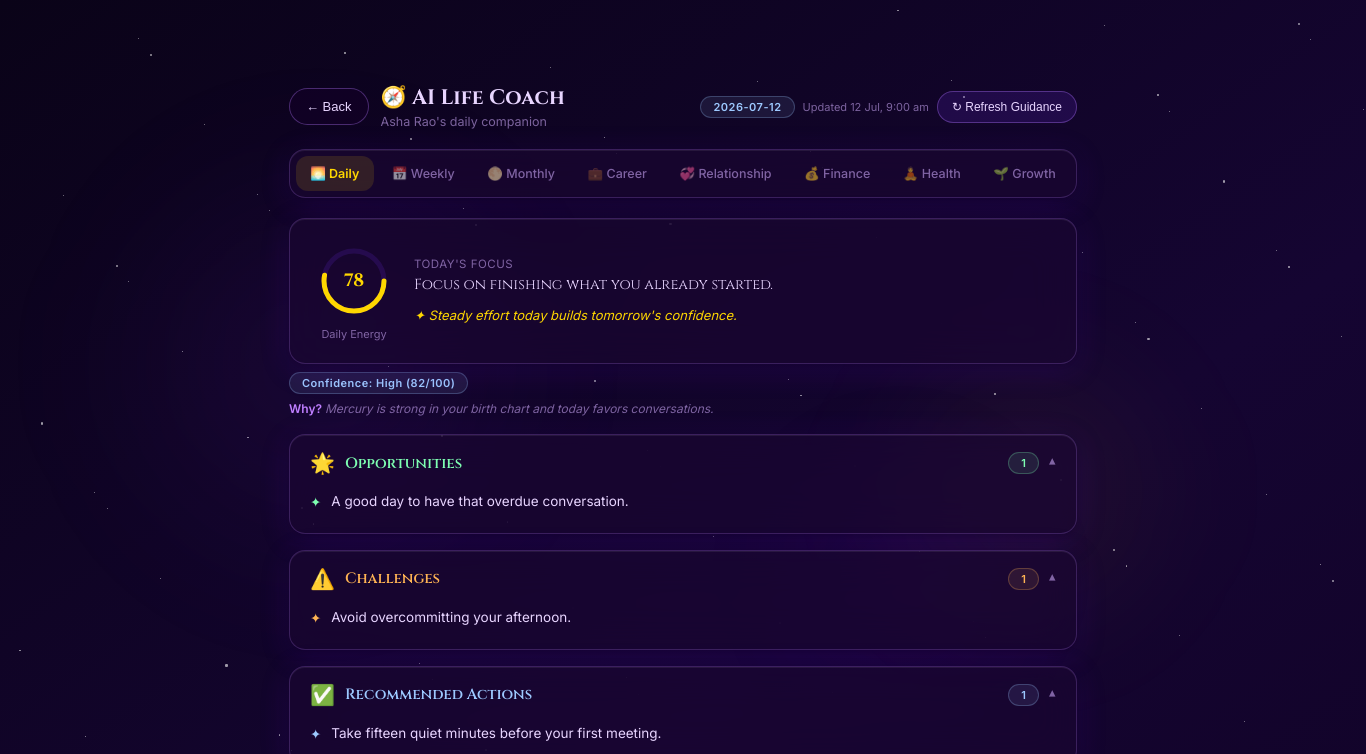
Test: AILifeCoachPage › switches to the Monthly section and shows the AI monthly narrative
Expected: the text "Focus on finishing what you already started." is shown, [414,275,773,294]
Click the button "🌕 Monthly": (521, 174) [473,156,569,191]
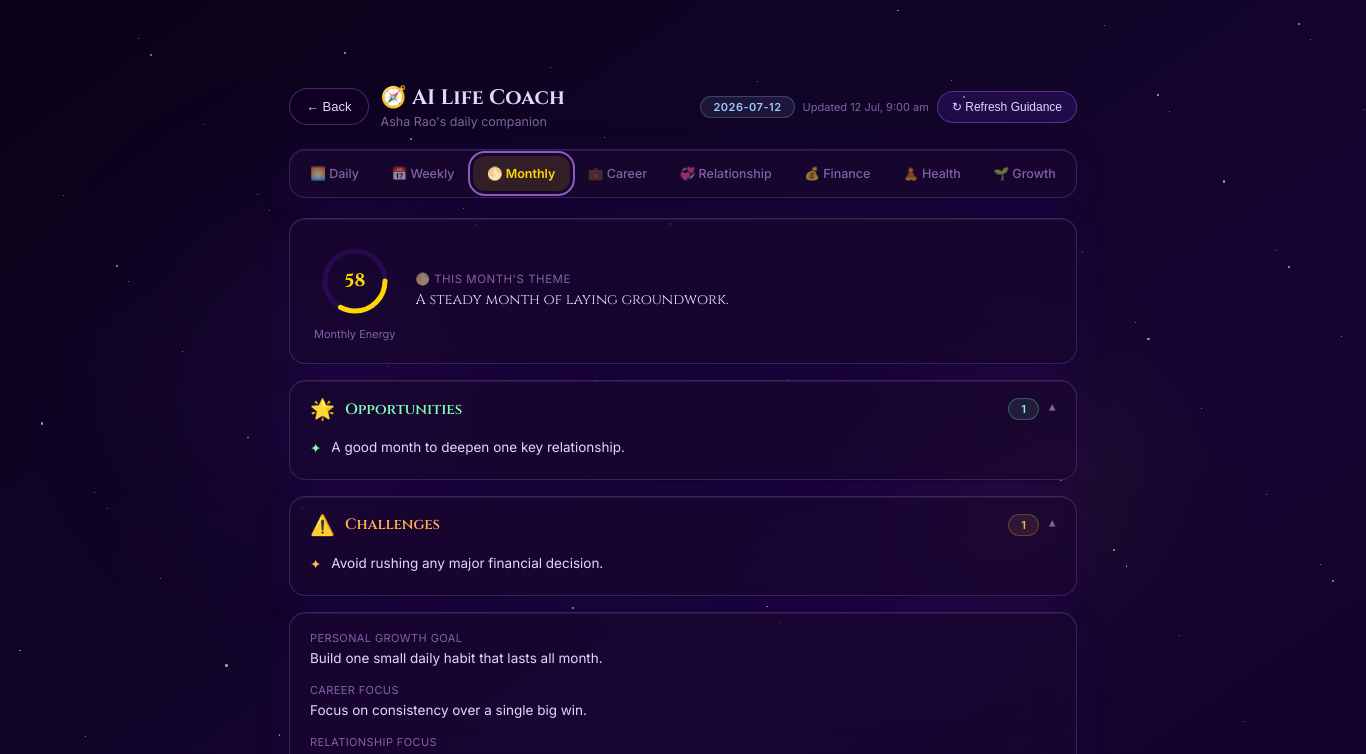
Expected: the text "A steady month of laying groundwork." is shown, [416,290,729,309]
Expected: the text "Build one small daily habit that lasts all month." is shown, [310,650,603,666]
